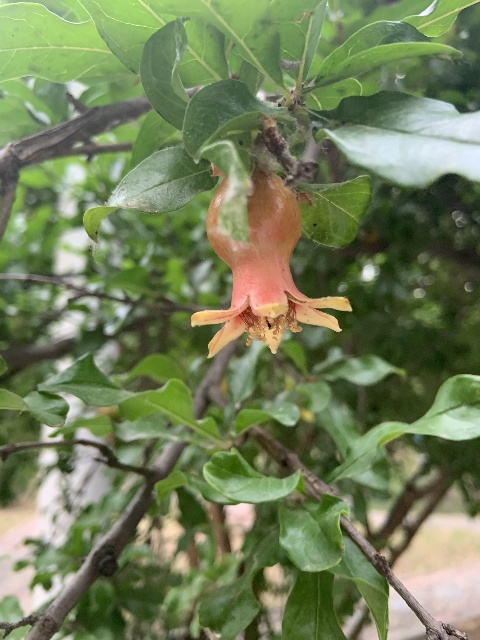early-fruit: (190, 163, 351, 357)
